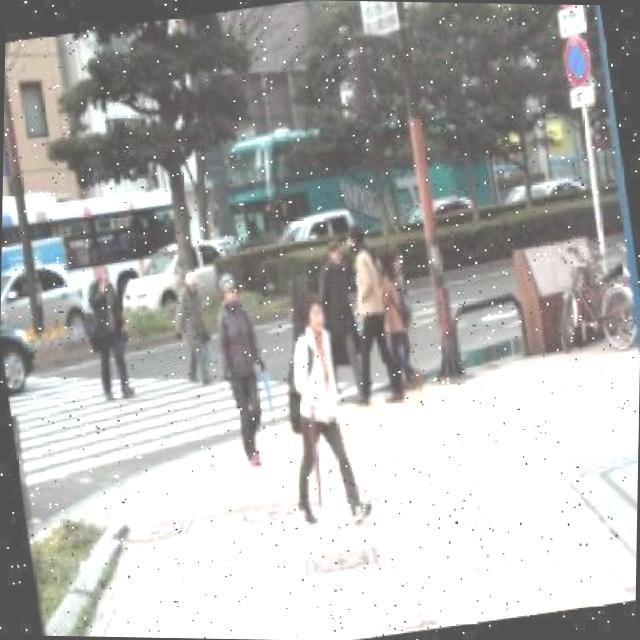Person: (263, 289, 372, 528), (203, 268, 277, 469), (336, 220, 402, 407), (307, 235, 368, 408), (75, 260, 140, 404), (371, 244, 426, 394), (166, 272, 217, 388)
